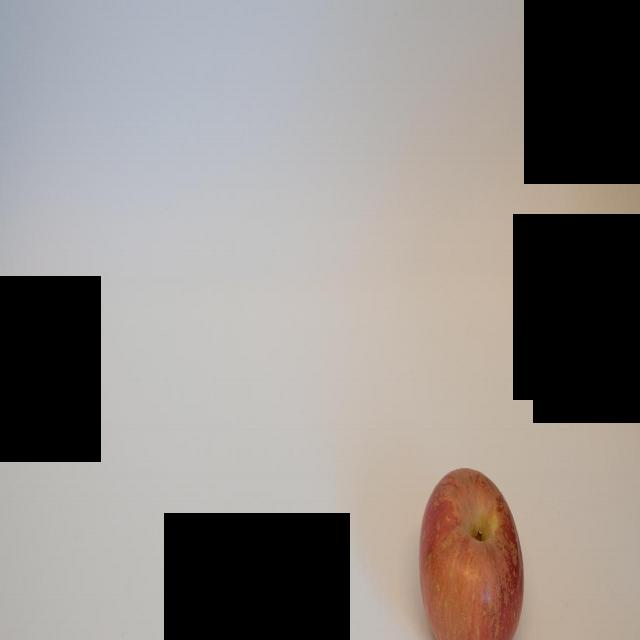apple: (419, 465, 525, 638)
